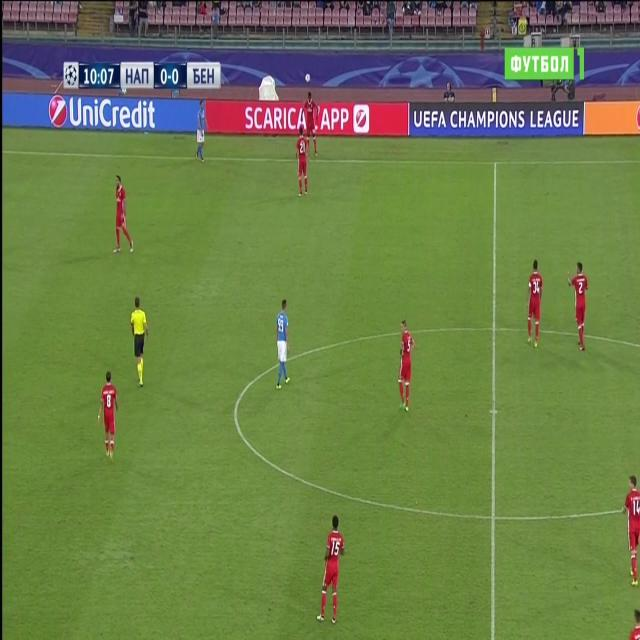Ball: (303, 71, 312, 85)
Player: (316, 513, 347, 628), (96, 367, 122, 462), (566, 259, 590, 354), (621, 474, 640, 588), (111, 170, 135, 257), (396, 318, 417, 417), (274, 296, 293, 396), (525, 258, 545, 349), (294, 125, 311, 200), (301, 91, 319, 160), (193, 99, 211, 163)
Referee: (129, 297, 152, 390)
